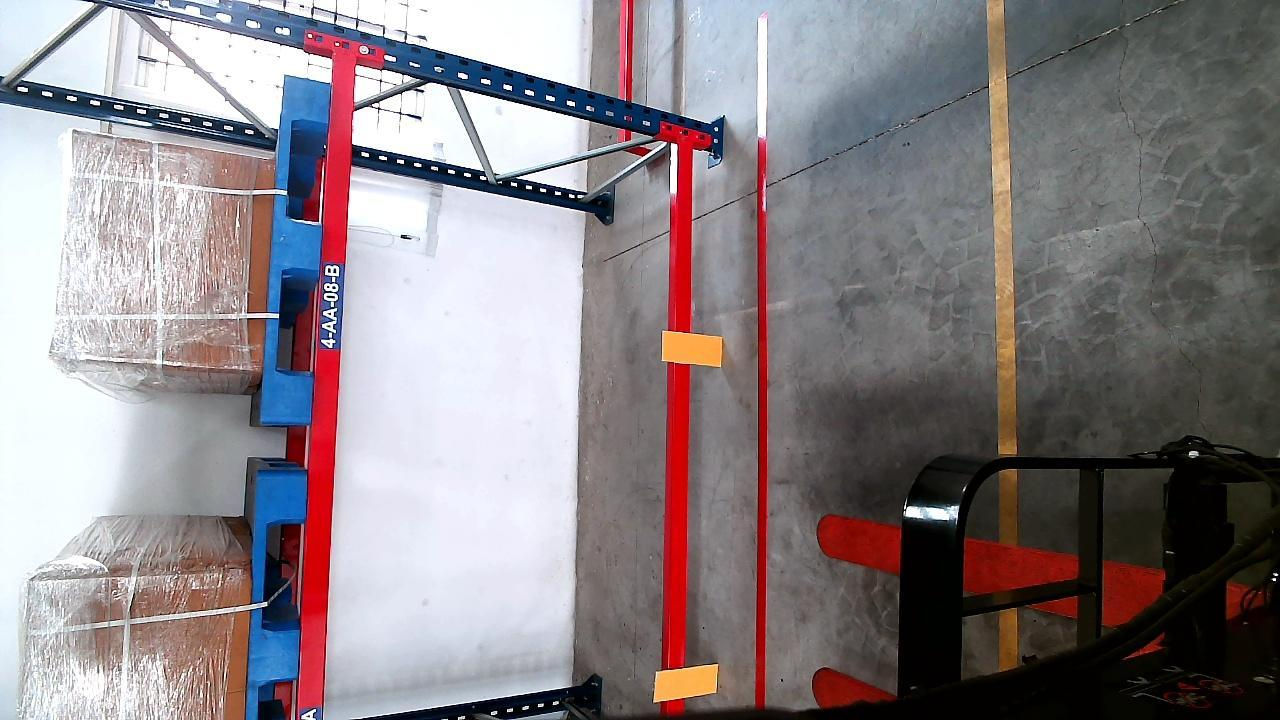red_line: (749, 135, 774, 703)
yellow_line: (989, 1, 1023, 476)
